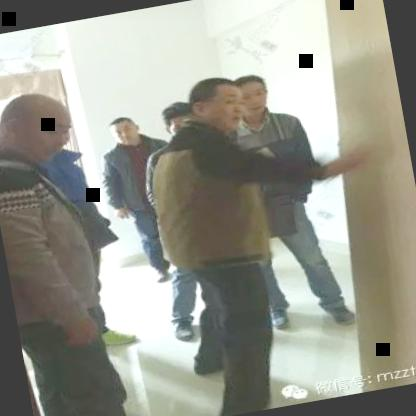head: (0, 83, 87, 171), (183, 69, 248, 136), (227, 65, 277, 123), (154, 94, 200, 142), (100, 109, 144, 145)
